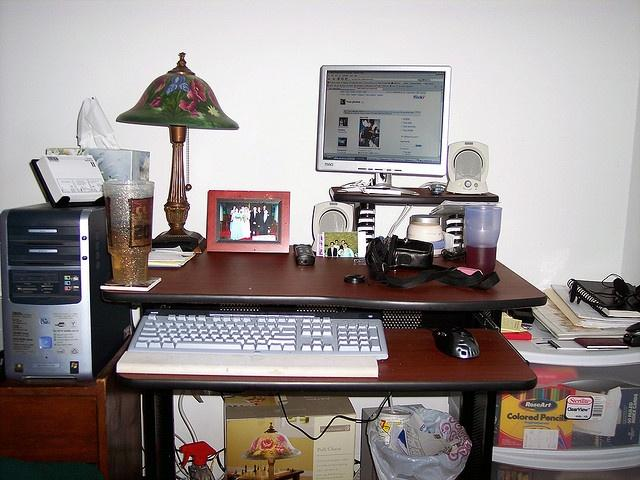AIO PC-Monitor-TV: (313, 63, 452, 177)
